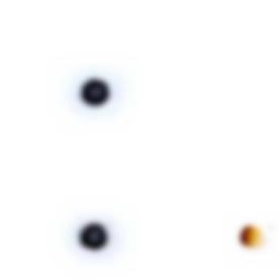cancer: (62, 62, 135, 122), (64, 208, 130, 266)
normal: (226, 210, 273, 256)
